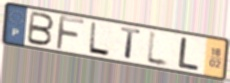B: (25, 10, 56, 48)
F: (54, 14, 86, 52)
L: (145, 28, 172, 71), (87, 20, 112, 58), (176, 36, 201, 72)
T: (119, 25, 143, 61)
